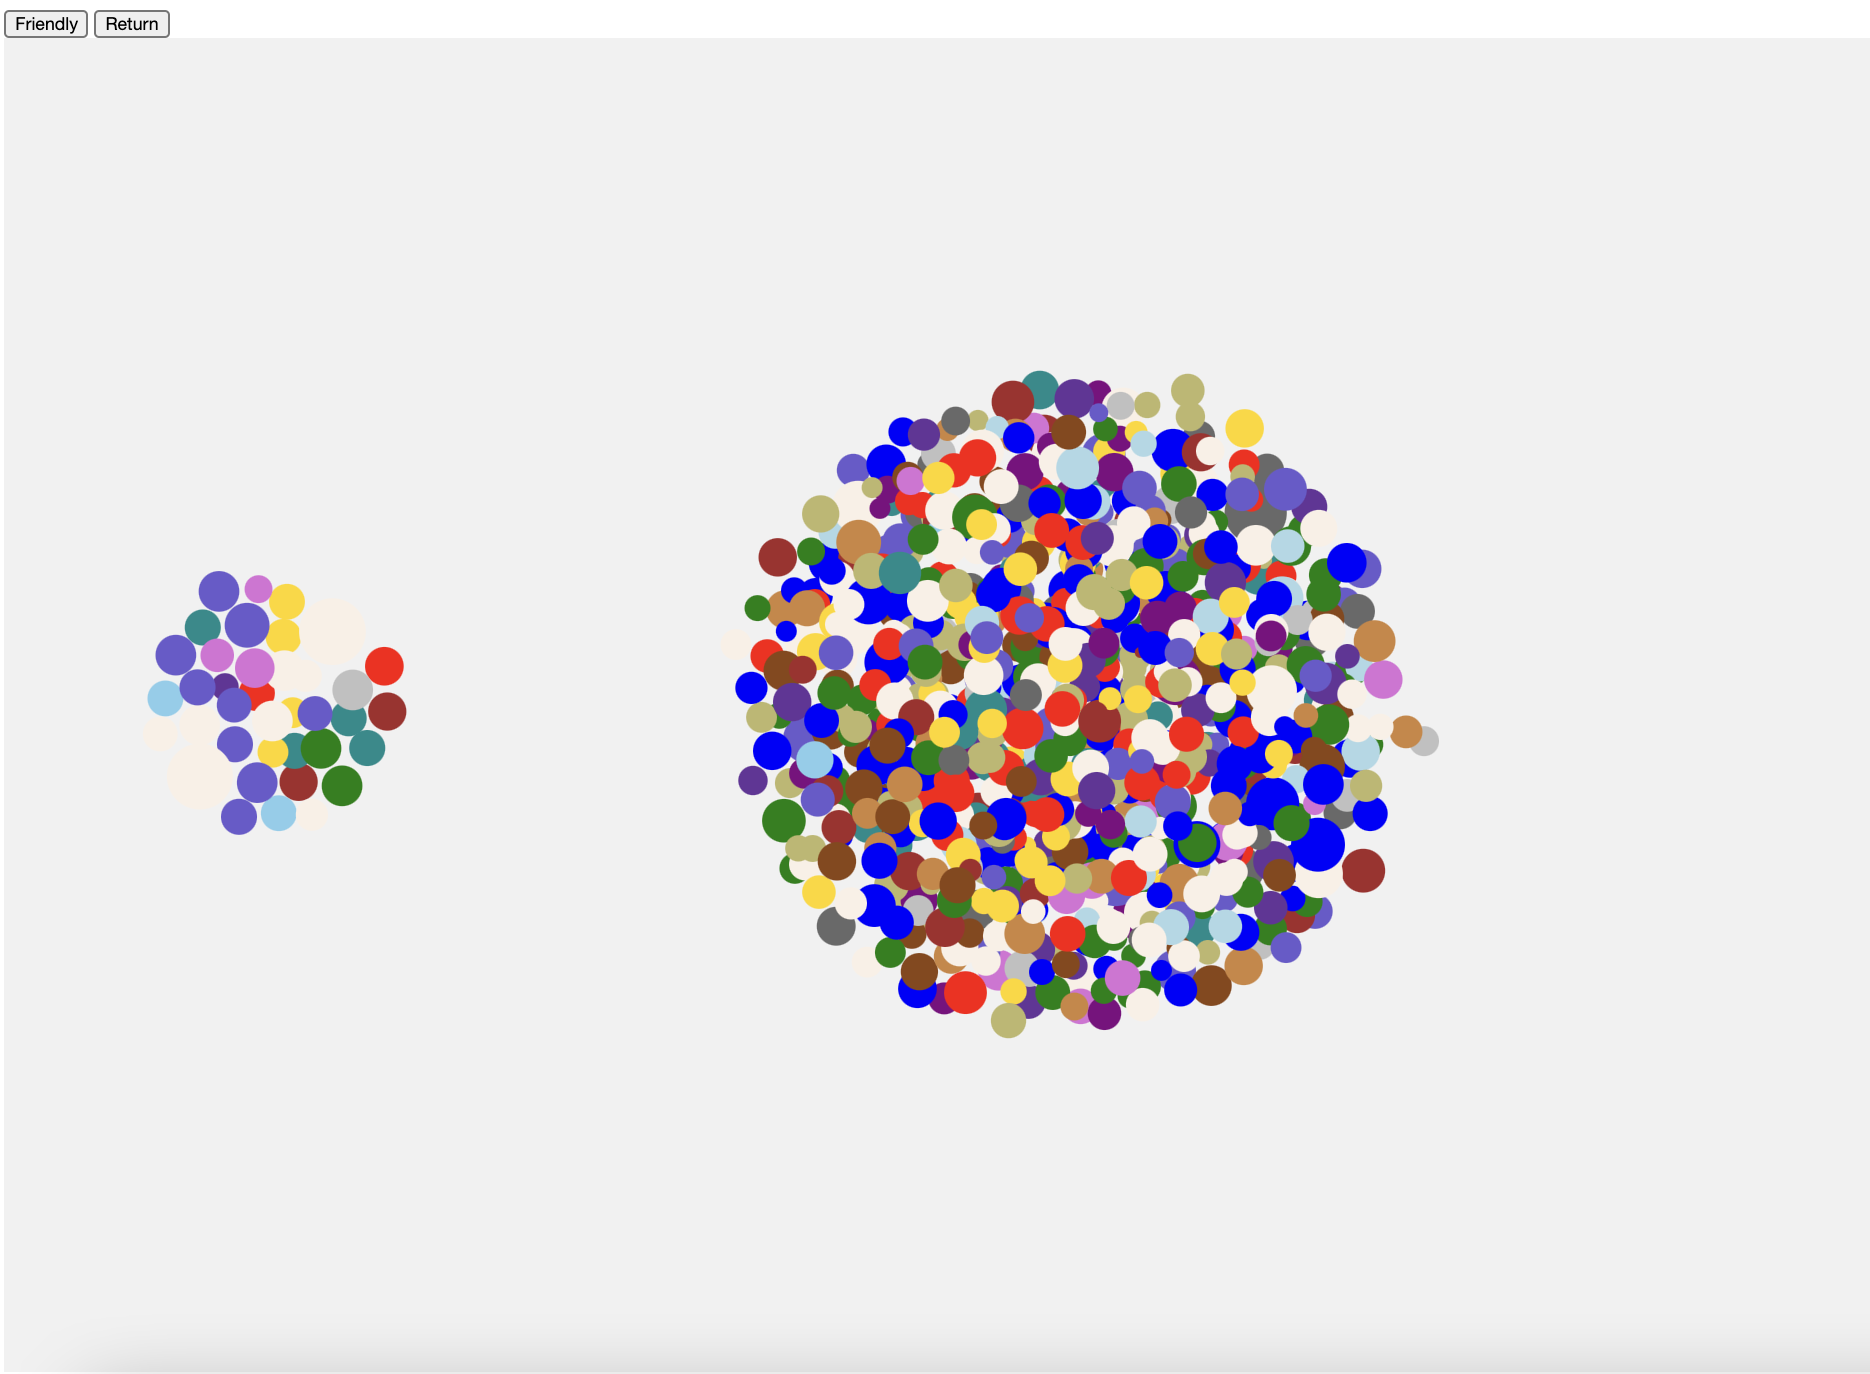

This screenshot's page, from the dashboard's own definition file:
{"tool":"tableau","page":{"name":"Dashboard 1","canvas":[1000,1000],"units":"permille","ordinal":0},"visuals":[{"type":"worksheet","title":"Pokemon Generations","mark":"Automatic","rows":["pokedex_number"],"cols":["generation"],"box":[9.4,11.8,792.9,488.2]},{"type":"legend","title":"Pokemon Stats","param":"[federated.0dny1g918b4gbl19gdzvs12cr4x0].[:Measure Names]","box":[802.4,11.8,188.2,127]},{"type":"worksheet","title":"Pokemon Stats","mark":"Automatic","rows":["english_name","type_1"],"box":[9.4,500,792.9,488.2]}]}

Visuals, with their boxes on the dashboard's canvas, which has no fixed pixel size, in thousandths of its width and height (x1, y1, x2, y2). These are canvas units, not pixel positions in the 1870x1374 screenshot, which may show the page scaled, cropped or inside an application window:
"Pokemon Generations" worksheet: <bbox>9, 12, 802, 500</bbox>
"Pokemon Stats" legend: <bbox>802, 12, 991, 139</bbox>
"Pokemon Stats" worksheet: <bbox>9, 500, 802, 988</bbox>
